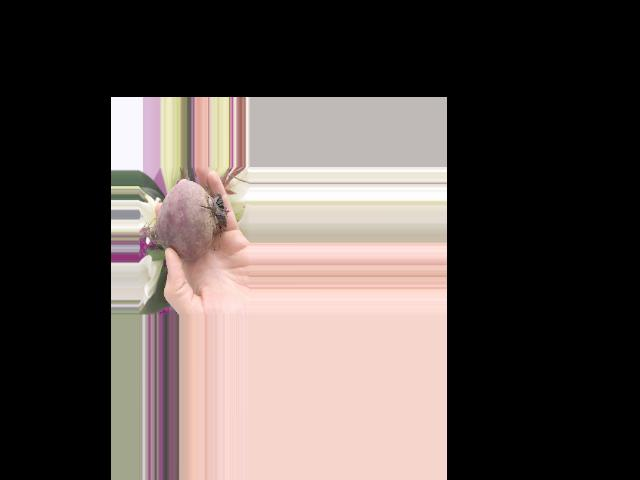beet: (139, 179, 230, 259)
